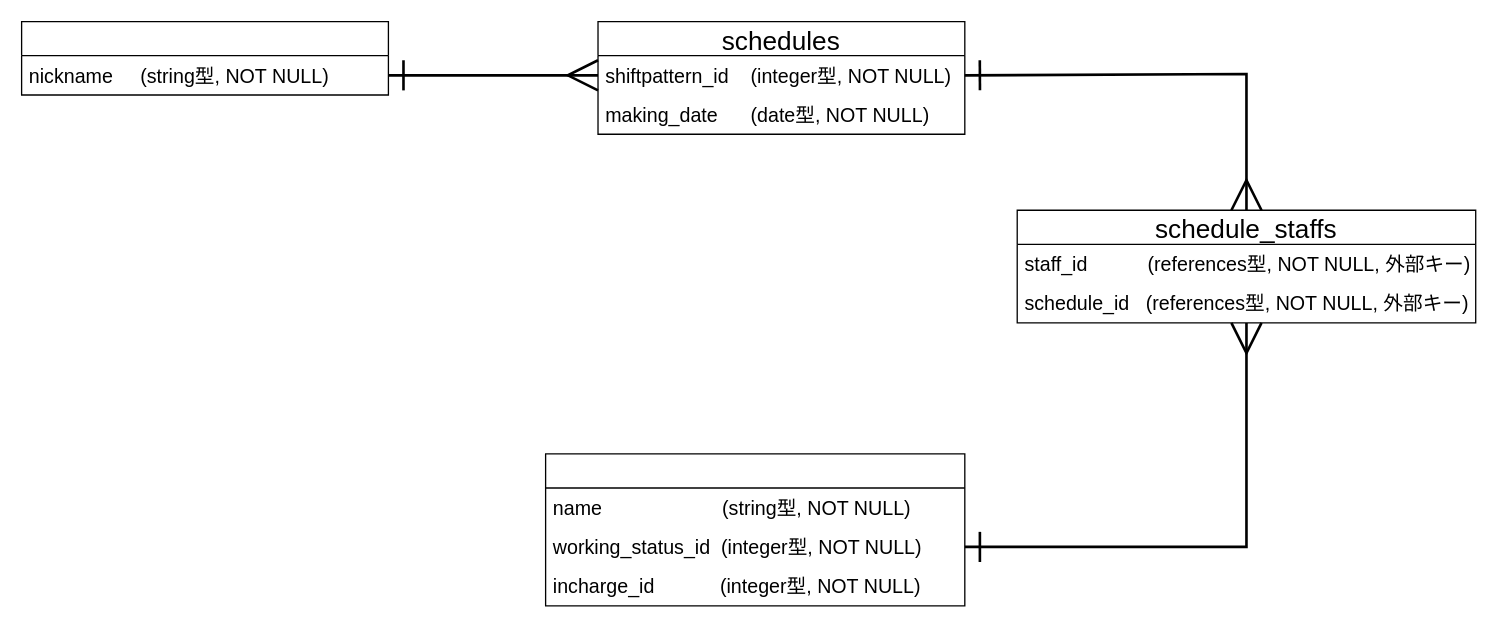
The diagram is 1497 pixels wide and 627 high, and some of its shapes have lost their labels. Each missing label, with the box of its shape:
staffs: (544, 453, 965, 606)
users: (20, 20, 388, 95)
